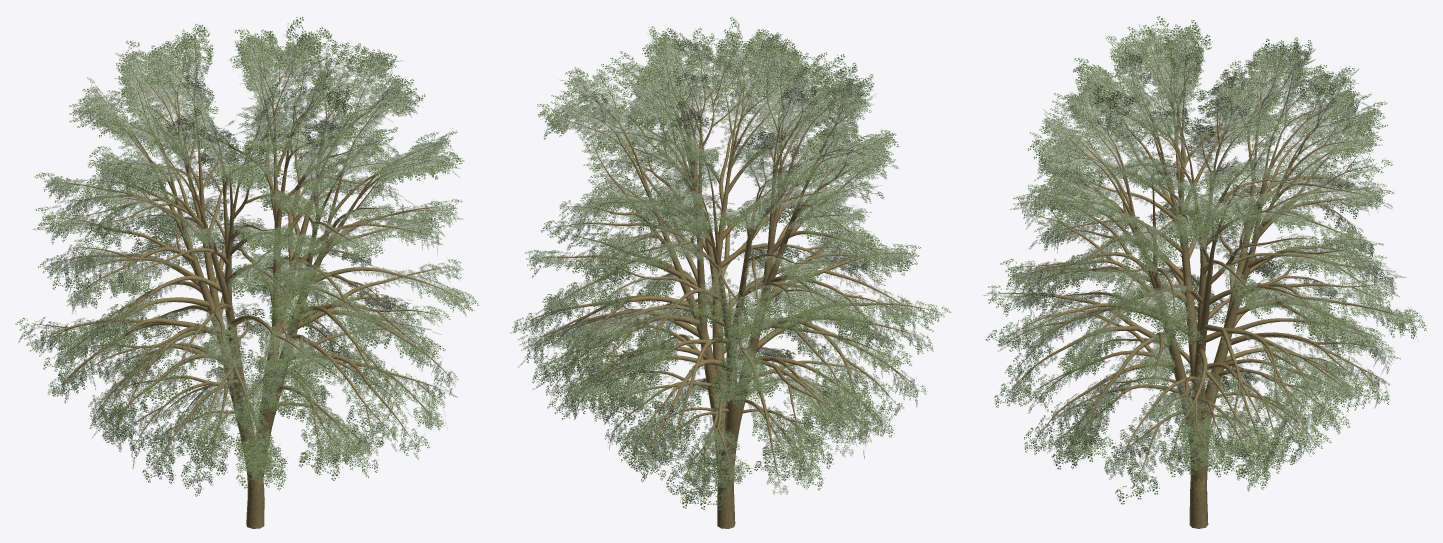
The model's file is tree2.glb.
3 renders of one model, left to right at view 1: azimuth 30°, elevation 25°; view 2: azimuth 150°, elevation 25°; view 3: azimuth 270°, elevation 25°, orthographic.
Parts seen in each view (by area): view 1: leaves, tree; view 2: leaves, tree; view 3: leaves, tree.
Boxes of the visible parts, x1,y1,x2,y2 form: leaves: [15, 16, 478, 496]; tree: [32, 42, 460, 528]; leaves: [510, 17, 951, 510]; tree: [522, 43, 934, 528]; leaves: [982, 16, 1426, 504]; tree: [999, 36, 1407, 528].
Size of the model in its own units: 9.77 by 11.78 by 9.95.
Materials: 2 (2 with a texture image).
